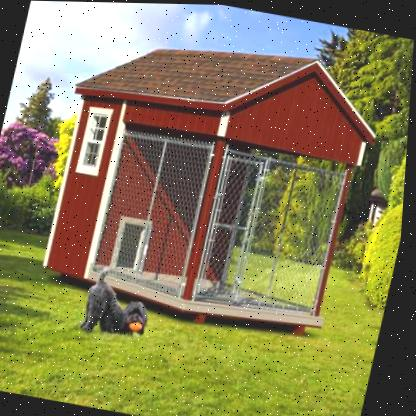dog: (67, 259, 166, 352)
